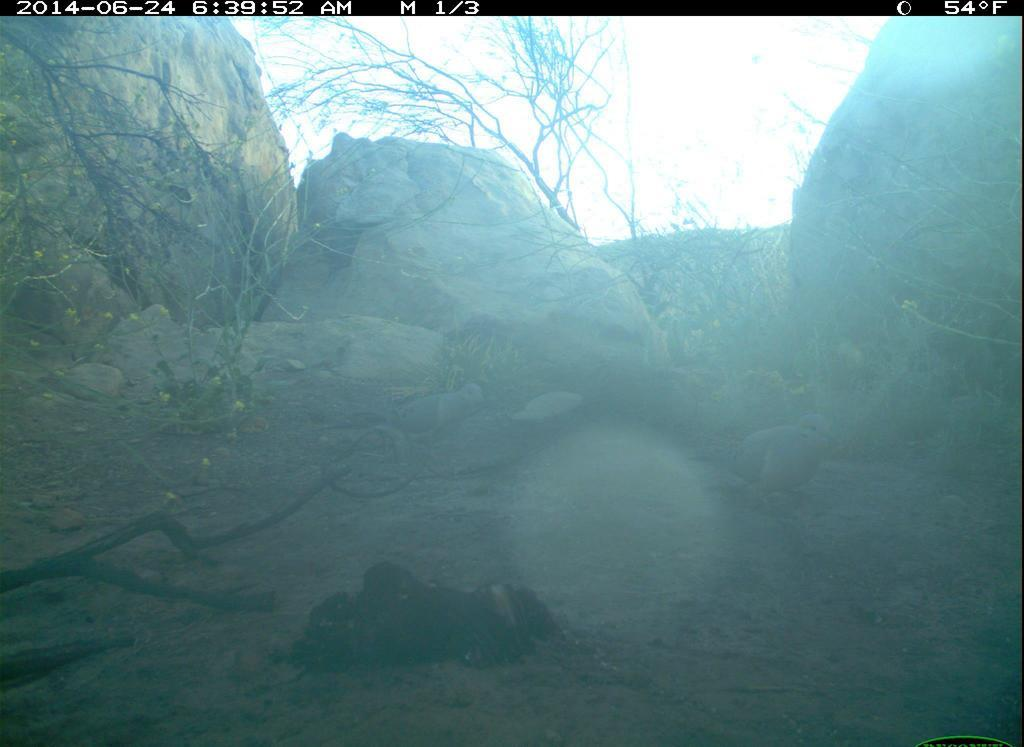bird: (676, 411, 839, 516), (299, 379, 491, 451)
